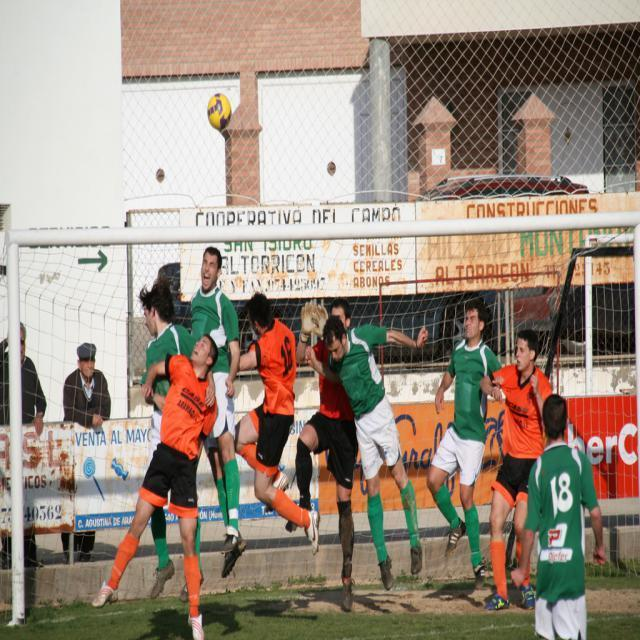football: (200, 88, 246, 142)
